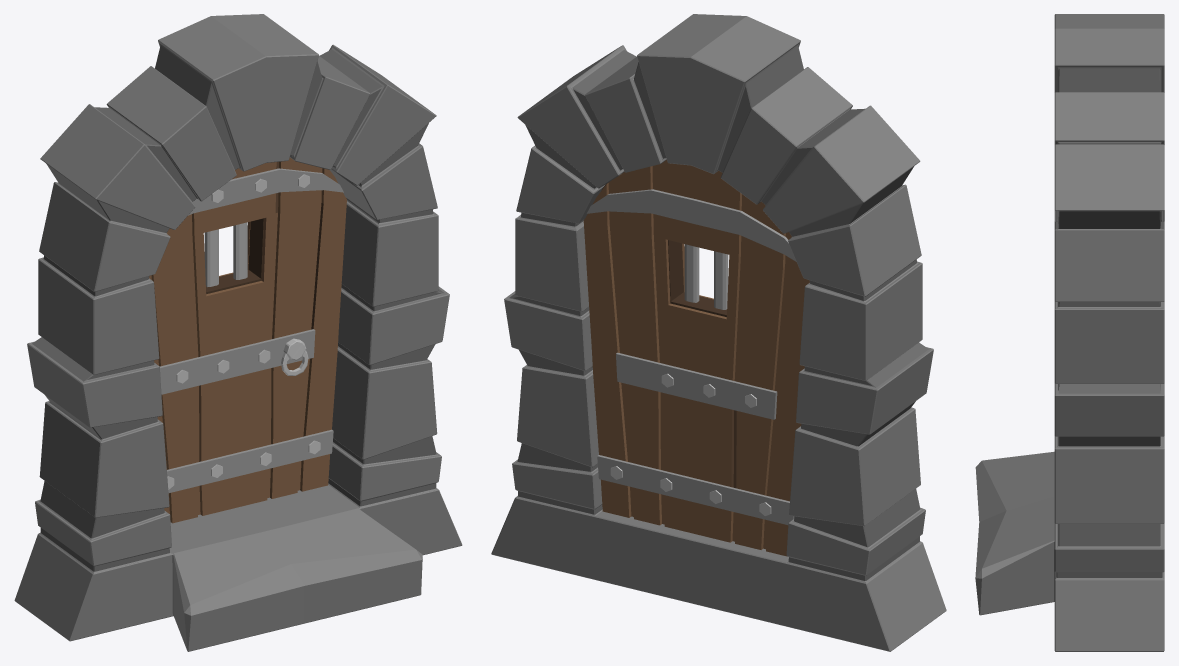
The model's file is Tür_Geschlossen.fbx.
3 views of the same model, side by side, from view 1: azimuth 30°, elevation 25°; view 2: azimuth 150°, elevation 25°; view 3: azimuth 270°, elevation 25° (orthographic). The views are drawn at different scales.
Parts seen in each view (by area): view 1: Tür.002; view 2: Tür.002; view 3: Tür.002.
Boxes of the visible parts, left/top/right/bottom form: Tür.002: left=14, top=14, right=462, bottom=651; Tür.002: left=491, top=14, right=946, bottom=651; Tür.002: left=975, top=14, right=1164, bottom=651.
Size of the model in its own units: 311 by 408 by 132.
